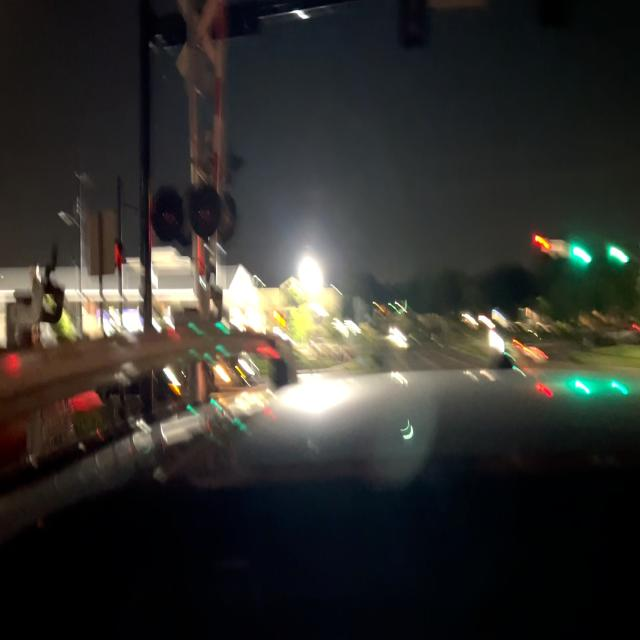back-of-sign: (90, 208, 115, 274)
